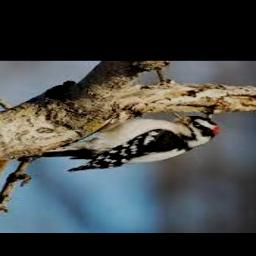Woodpecker: (18, 111, 218, 171)
